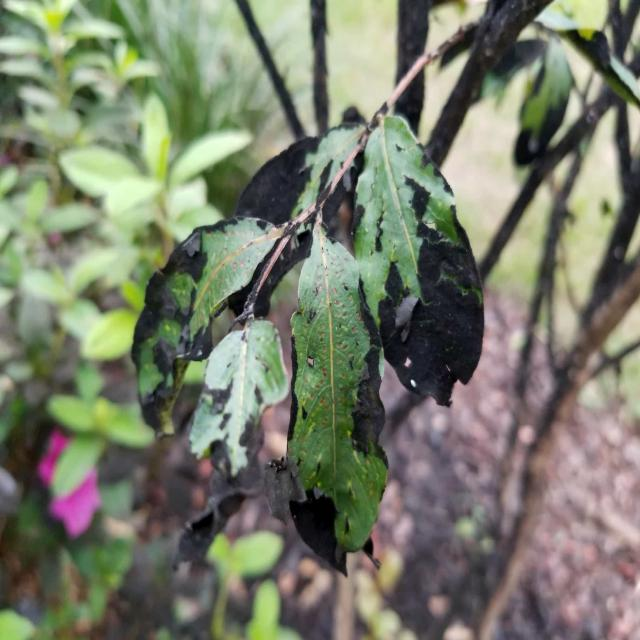Sooty Mold: (130, 107, 487, 577)
